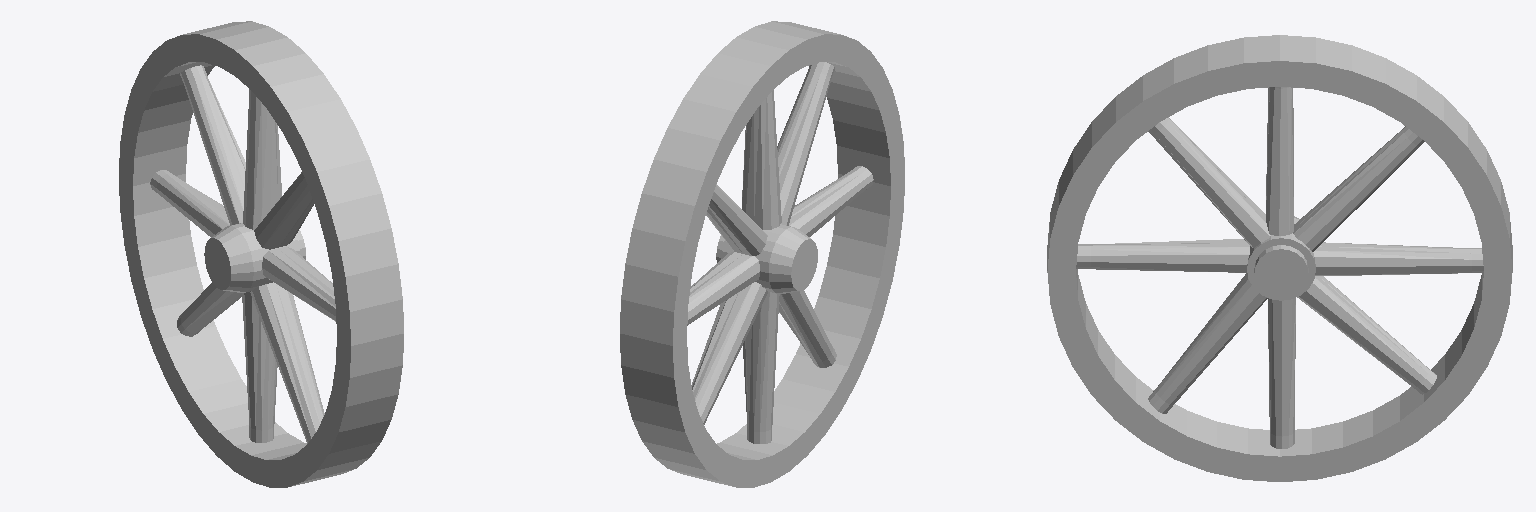
The model's file is wheelExp.obj.
3 renders of one model, left to right at view 1: azimuth 30°, elevation 25°; view 2: azimuth 150°, elevation 25°; view 3: azimuth 270°, elevation 25°, orthographic.
Parts seen in each view (by area): view 1: wheelExp:default1; view 2: wheelExp:default1; view 3: wheelExp:default1.
Boxes of the visible parts, x1=… form: wheelExp:default1: x1=119, y1=21, x2=403, y2=487; wheelExp:default1: x1=620, y1=21, x2=904, y2=487; wheelExp:default1: x1=1047, y1=35, x2=1512, y2=481.
Bounding box in the file's own units: 0.5863 × 3.15 × 3.15.